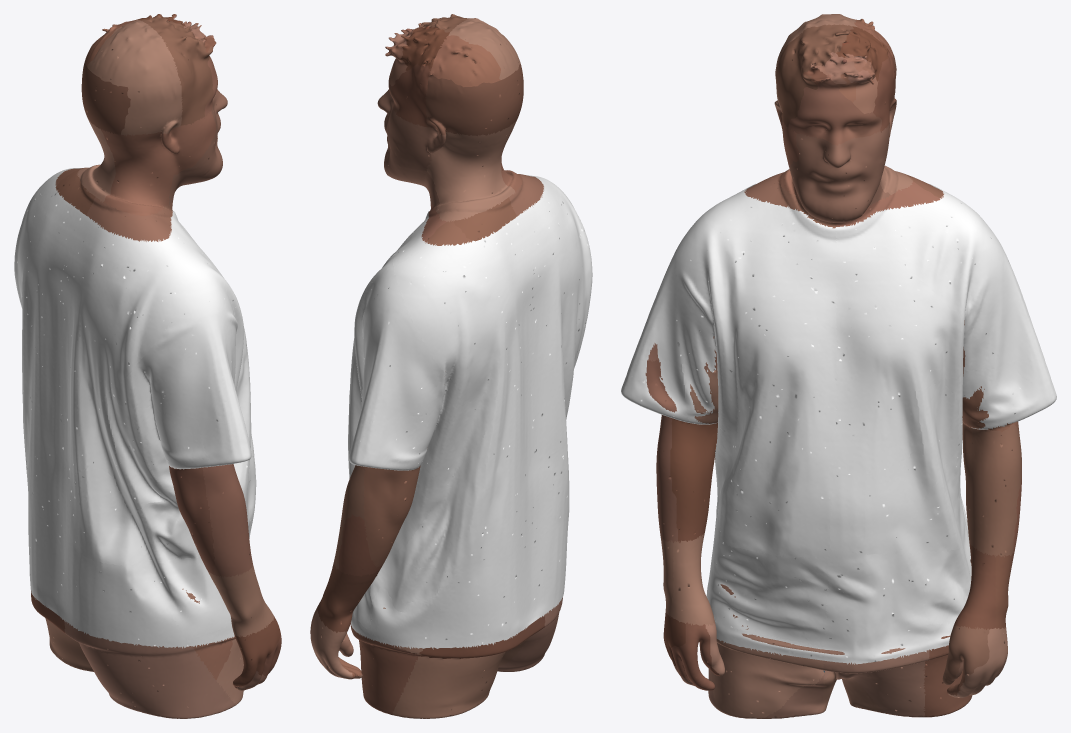
The model's file is tshirt_mockup.glb.
The picture shows the model from 3 angles, left to right: view 1: azimuth 30°, elevation 25°; view 2: azimuth 150°, elevation 25°; view 3: azimuth 270°, elevation 25°; orthographic projection. The views are drawn at different scales.
Parts seen in each view (by area): view 1: Shirt, tripo_node_b23105b1-c737-4966-bcb3-36b0d6b8ef34; view 2: Shirt, tripo_node_b23105b1-c737-4966-bcb3-36b0d6b8ef34; view 3: Shirt, tripo_node_b23105b1-c737-4966-bcb3-36b0d6b8ef34.
Boxes of the visible parts, x1,y1,x2,y2 form: Shirt: [14, 168, 256, 648]; tripo_node_b23105b1-c737-4966-bcb3-36b0d6b8ef34: [31, 14, 281, 718]; Shirt: [348, 175, 592, 649]; tripo_node_b23105b1-c737-4966-bcb3-36b0d6b8ef34: [310, 14, 562, 718]; Shirt: [621, 184, 1056, 664]; tripo_node_b23105b1-c737-4966-bcb3-36b0d6b8ef34: [645, 14, 1021, 718].
Size of the model in its own units: 0.2919 by 1 by 0.5885.
Materials: 2 (2 with a texture image).
